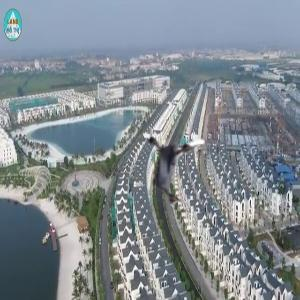drone: (126, 119, 225, 218)
